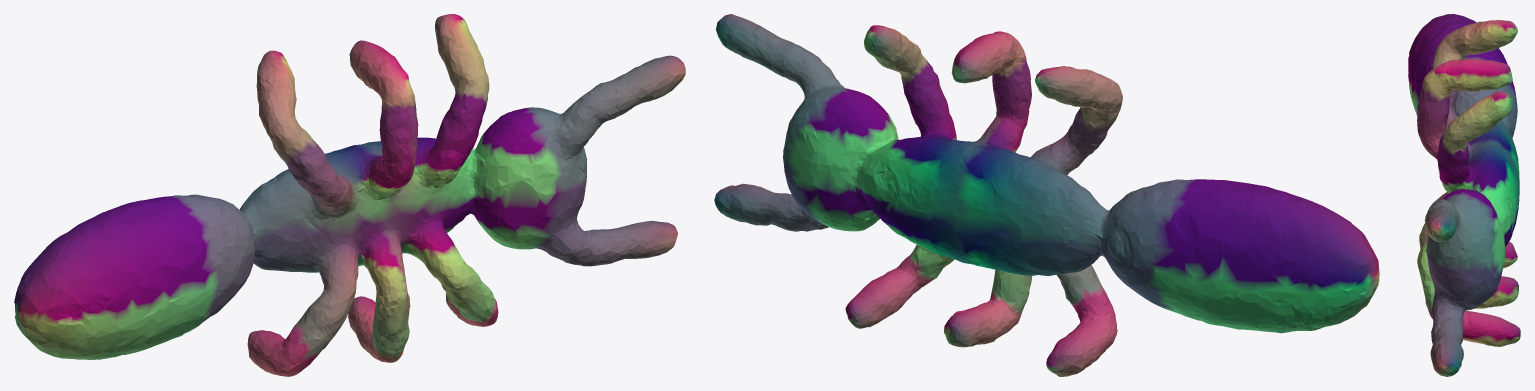
Rendered from ant-5.off.obj.
3 renders of one model, left to right at view 1: azimuth 30°, elevation 25°; view 2: azimuth 150°, elevation 25°; view 3: azimuth 270°, elevation 25°, orthographic. The views are drawn at different scales.
Bounding box in the file's own units: 1.78 × 0.789 × 0.3192.
